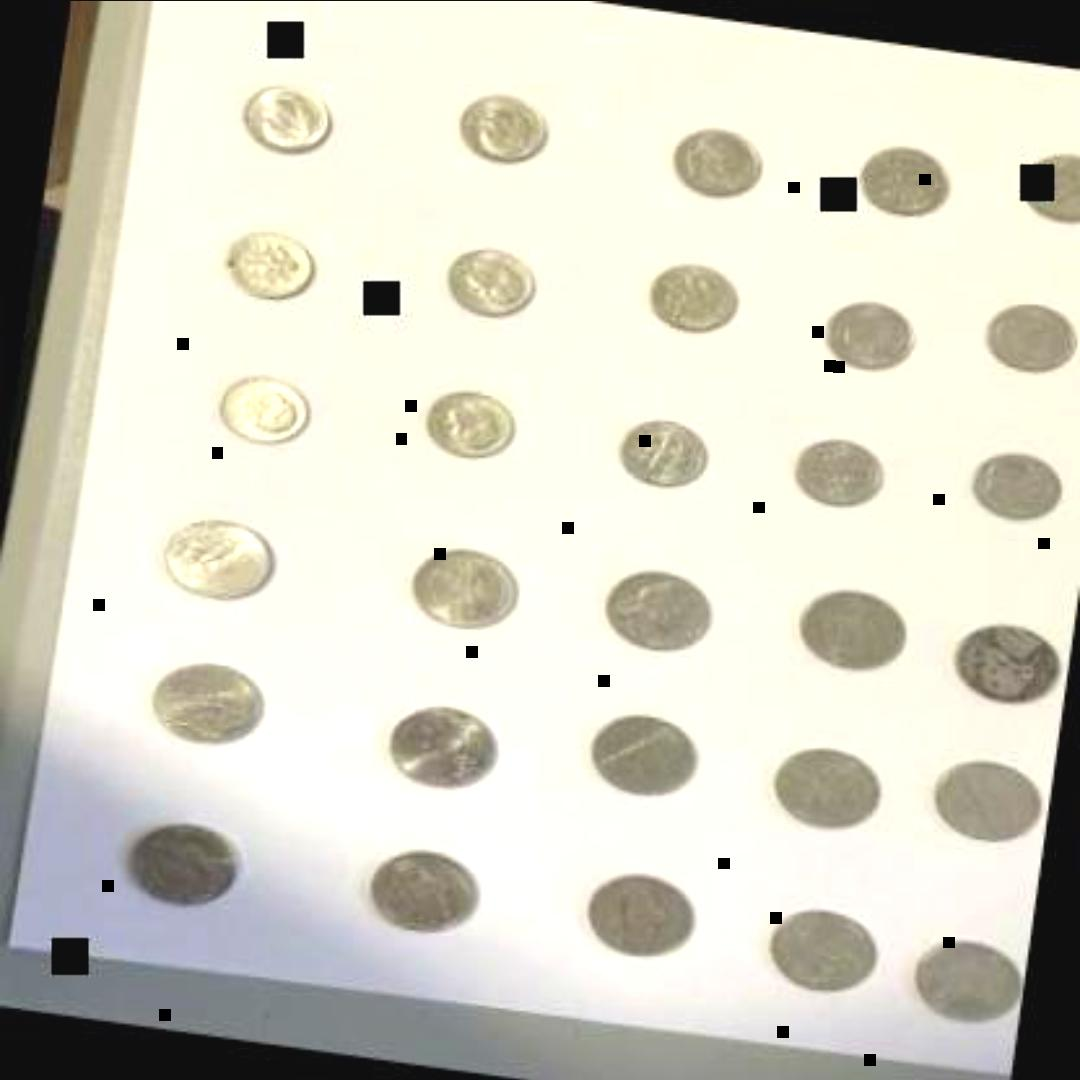Dime: (640, 255, 754, 340), (214, 221, 324, 309), (455, 86, 561, 176), (667, 123, 773, 211), (239, 73, 345, 161), (788, 432, 894, 520), (966, 442, 1074, 528), (976, 296, 1080, 384), (438, 241, 548, 324), (214, 372, 320, 457), (856, 144, 962, 228), (822, 294, 926, 374), (418, 388, 520, 468), (617, 414, 713, 492), (1016, 146, 1080, 230)
Nickel: (158, 508, 296, 610), (920, 750, 1050, 854), (598, 558, 728, 661), (380, 696, 510, 799), (126, 814, 255, 917), (583, 704, 707, 806), (904, 928, 1028, 1030), (144, 655, 273, 753), (762, 742, 890, 840), (756, 902, 884, 1000), (792, 582, 916, 680), (578, 865, 702, 963), (361, 844, 485, 942), (407, 540, 523, 642), (946, 616, 1066, 714)
